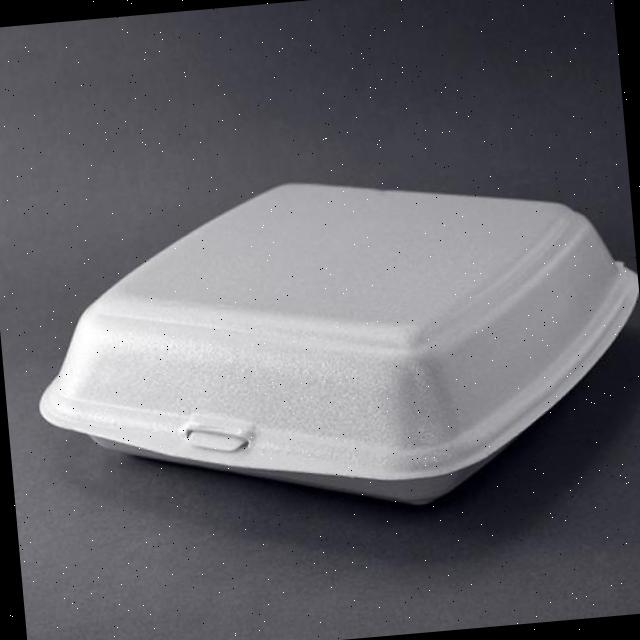styrofoam: (17, 148, 640, 539)
